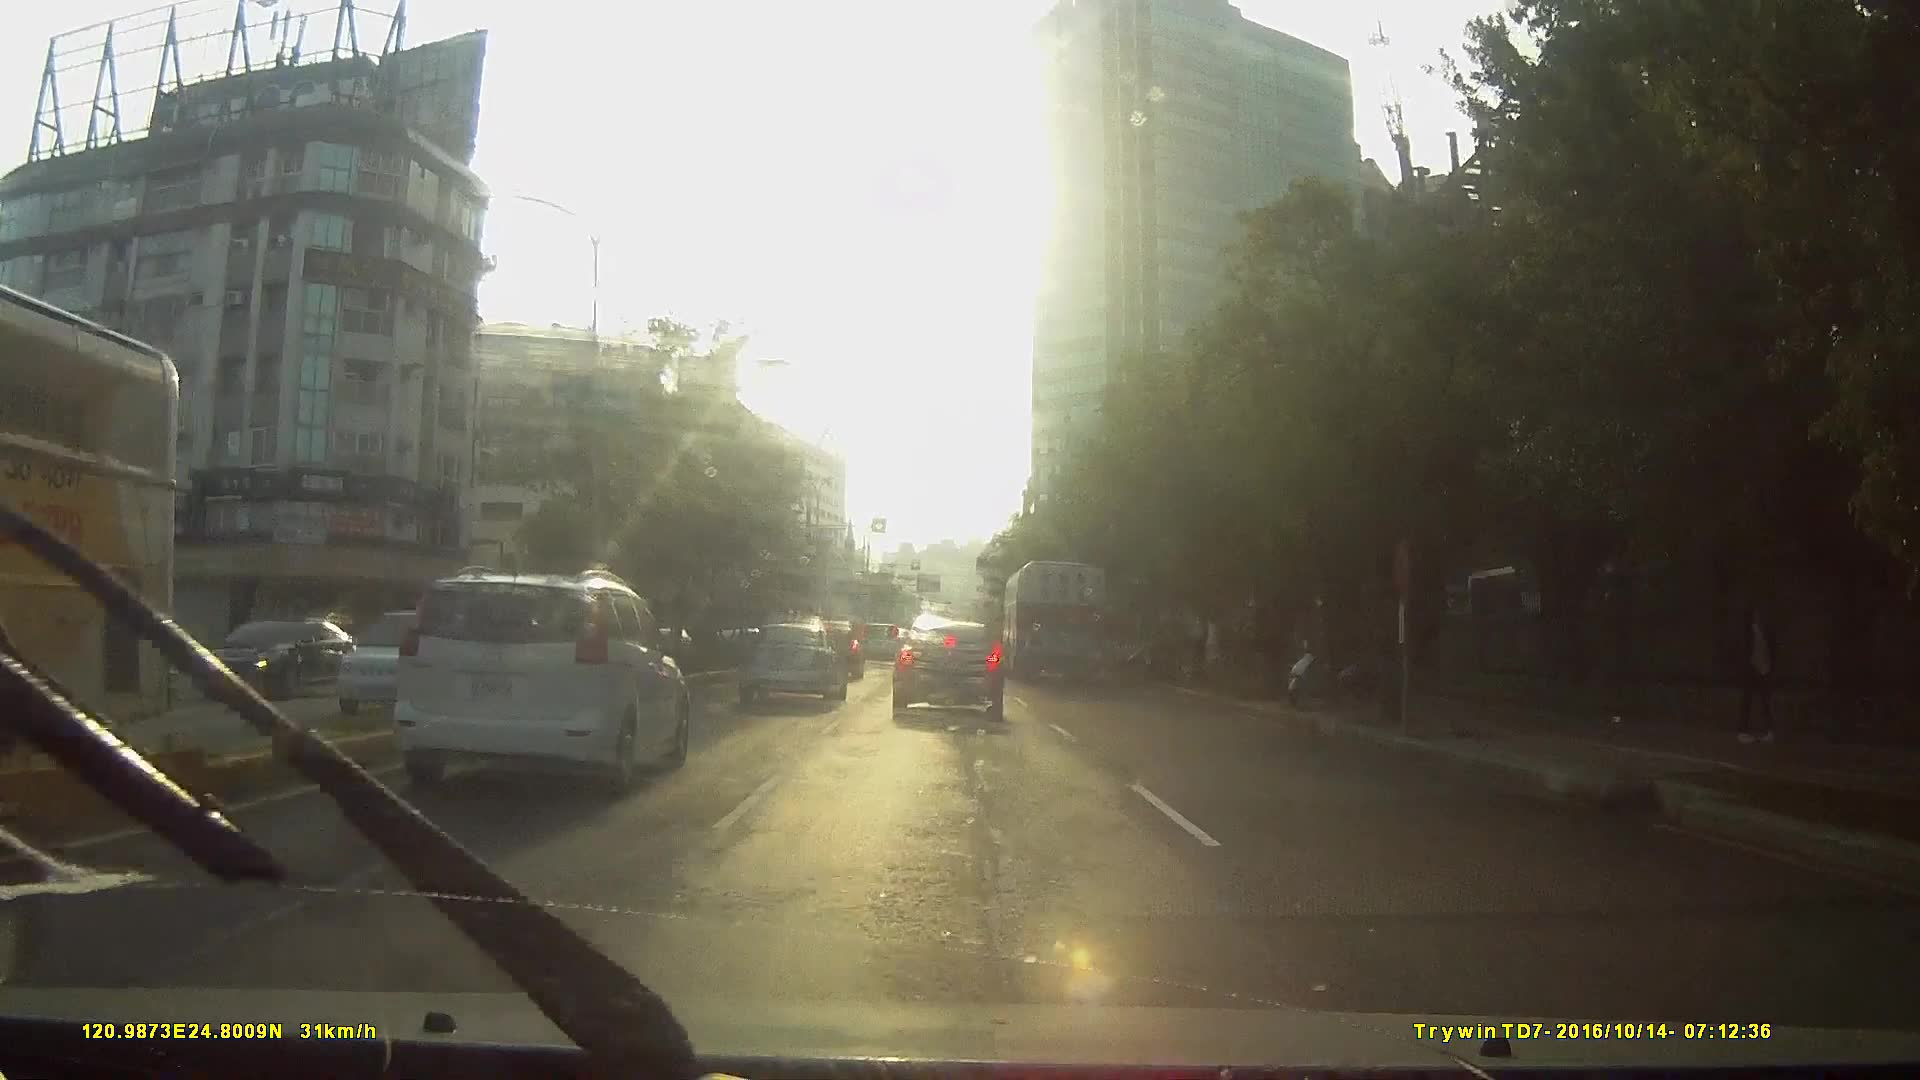pedestrian: (1716, 588, 1788, 751)
vehicle: (250, 556, 684, 868), (1, 285, 198, 820), (388, 565, 685, 792), (319, 604, 506, 714), (183, 613, 370, 704), (1002, 554, 1109, 683), (887, 611, 1003, 718), (732, 617, 842, 701), (853, 615, 902, 664)
